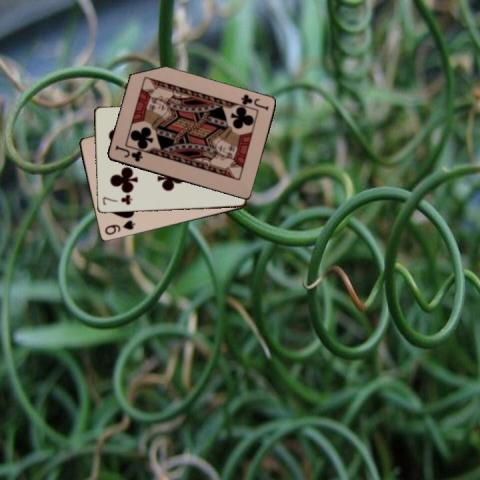7c: (100, 193, 134, 207)
9s: (101, 217, 136, 237)
Jc: (237, 91, 270, 112), (112, 144, 143, 163)
